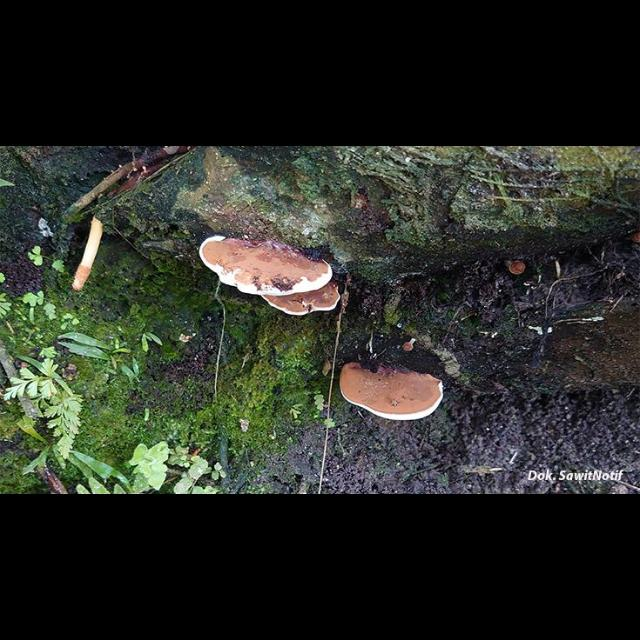ganoderma: (199, 236, 333, 298), (339, 362, 443, 422), (261, 281, 343, 318), (509, 260, 527, 277)
